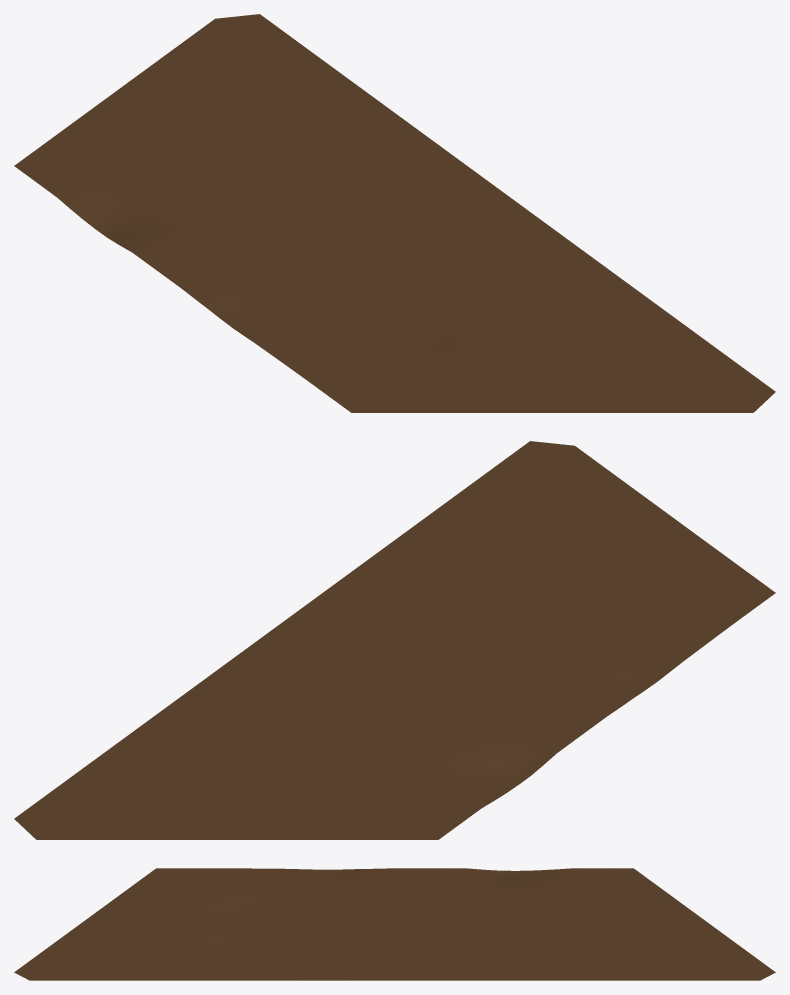
Rendered from forest_forest_edge_e5.glb.
The picture shows the model from 3 angles, top to bottom: view 1: azimuth 30°, elevation 25°; view 2: azimuth 150°, elevation 25°; view 3: azimuth 270°, elevation 25°; orthographic projection. The views are drawn at different scales.
Visible parts, largest first — view 1: forest_forest_edge_e5_lod0; view 2: forest_forest_edge_e5_lod0; view 3: forest_forest_edge_e5_lod0.
Part boxes in pixels (bbox=[...]): forest_forest_edge_e5_lod0: bbox=[14, 14, 775, 412]; forest_forest_edge_e5_lod0: bbox=[14, 441, 775, 839]; forest_forest_edge_e5_lod0: bbox=[14, 868, 775, 980].
Size of what is drawn, in the model's own units: 6 by 0.1428 by 16.69.
